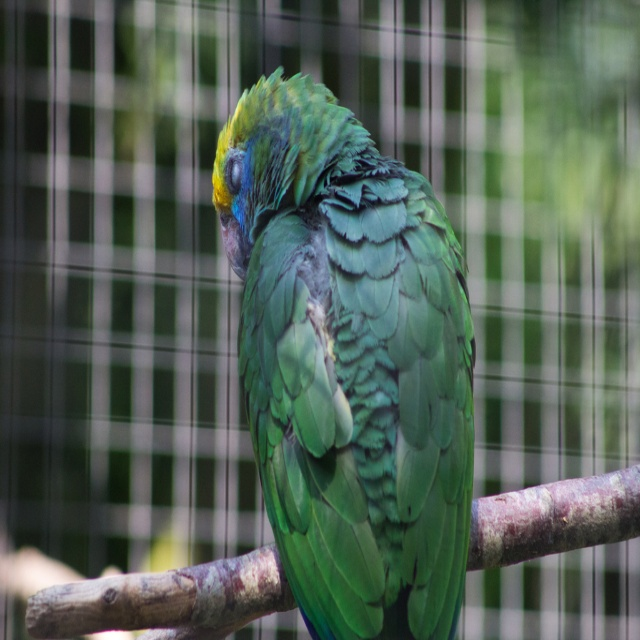Parrot: (209, 64, 476, 639)
